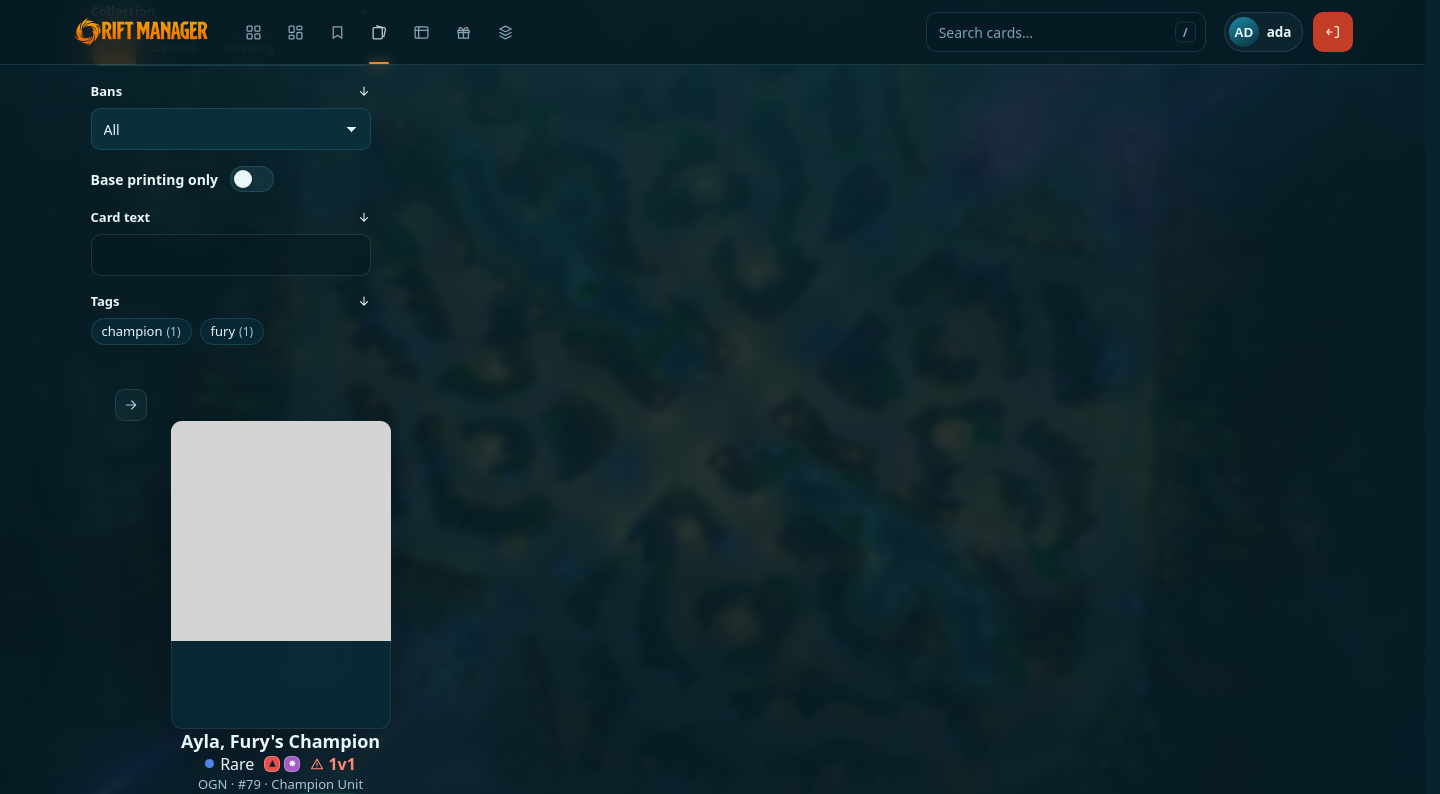
Test: CatalogPage side panels (owner feedback S23) › folds the wide preview away
(page scrolled)
Click the button named "Hide preview": (130, 405) [114,389,146,421]
(page scrolled)
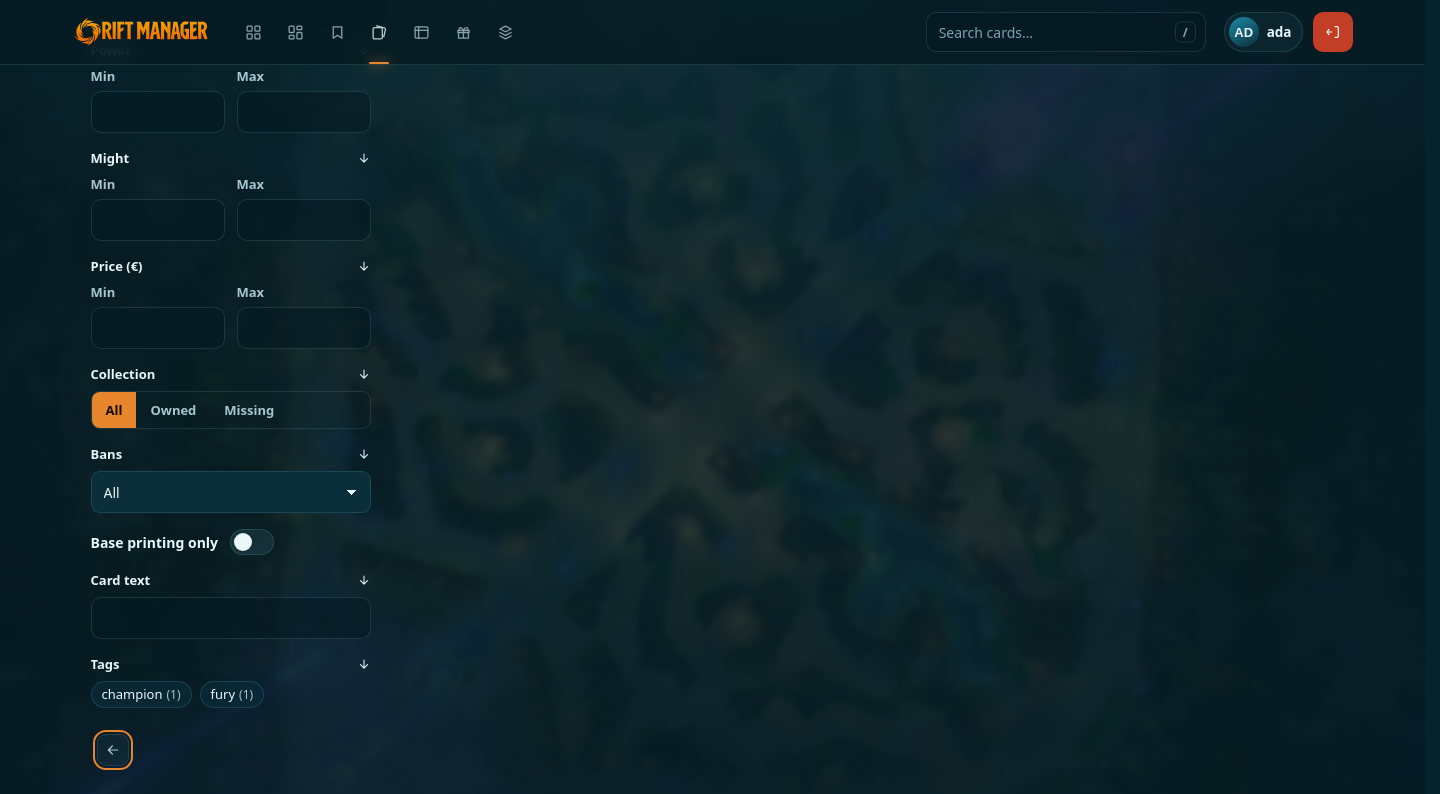
Expected: the button named "Show preview" is collapsed, [96,734,128,766]
Expected: the element named "Preview" has attribute data-collapsed, [96,734,128,766]
